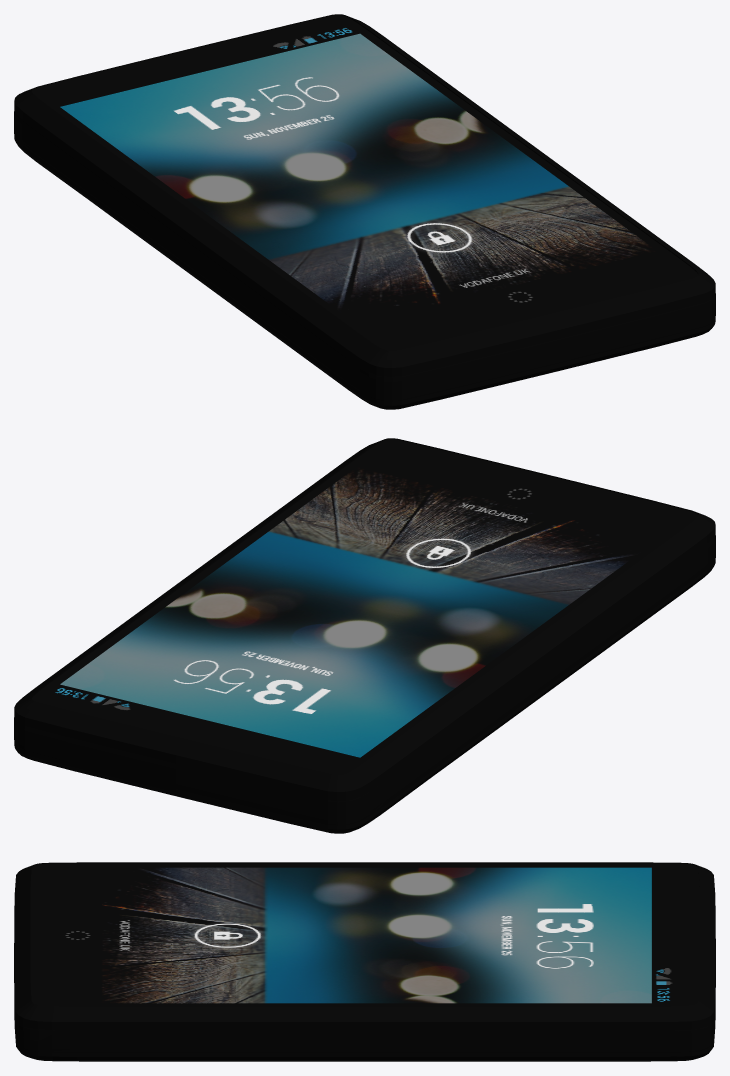
File: smartphone.fbx
3 views of the same model, one above another, from view 1: azimuth 30°, elevation 25°; view 2: azimuth 150°, elevation 25°; view 3: azimuth 270°, elevation 25° (orthographic). The views are drawn at different scales.
Visible parts, largest first — view 1: 10118 Smartphone V1 Iterations-1 V4; view 2: 10118 Smartphone V1 Iterations-1 V4; view 3: 10118 Smartphone V1 Iterations-1 V4.
Boxes of the visible parts, box(x1,y1,x2,y2) form: 10118 Smartphone V1 Iterations-1 V4: box(14, 14, 715, 409); 10118 Smartphone V1 Iterations-1 V4: box(14, 438, 715, 833); 10118 Smartphone V1 Iterations-1 V4: box(14, 862, 715, 1061).
Size of the model in its own units: 0.6276 by 0.1063 by 1.18.
